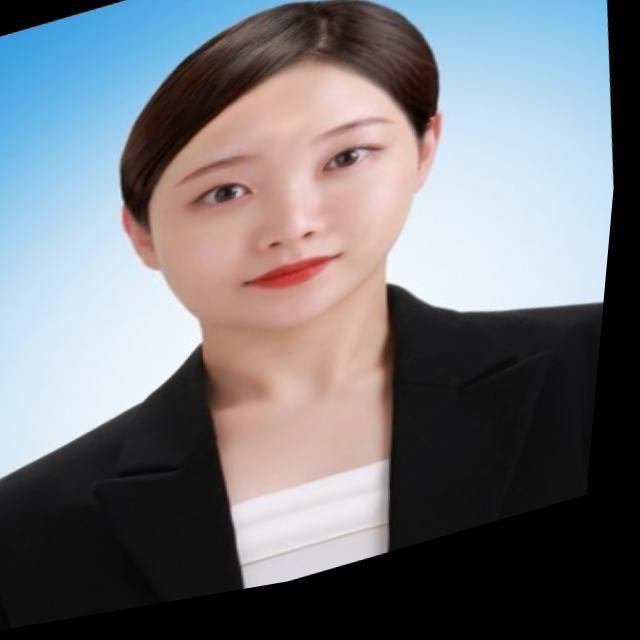Nonhelmet: (98, 0, 453, 341)
